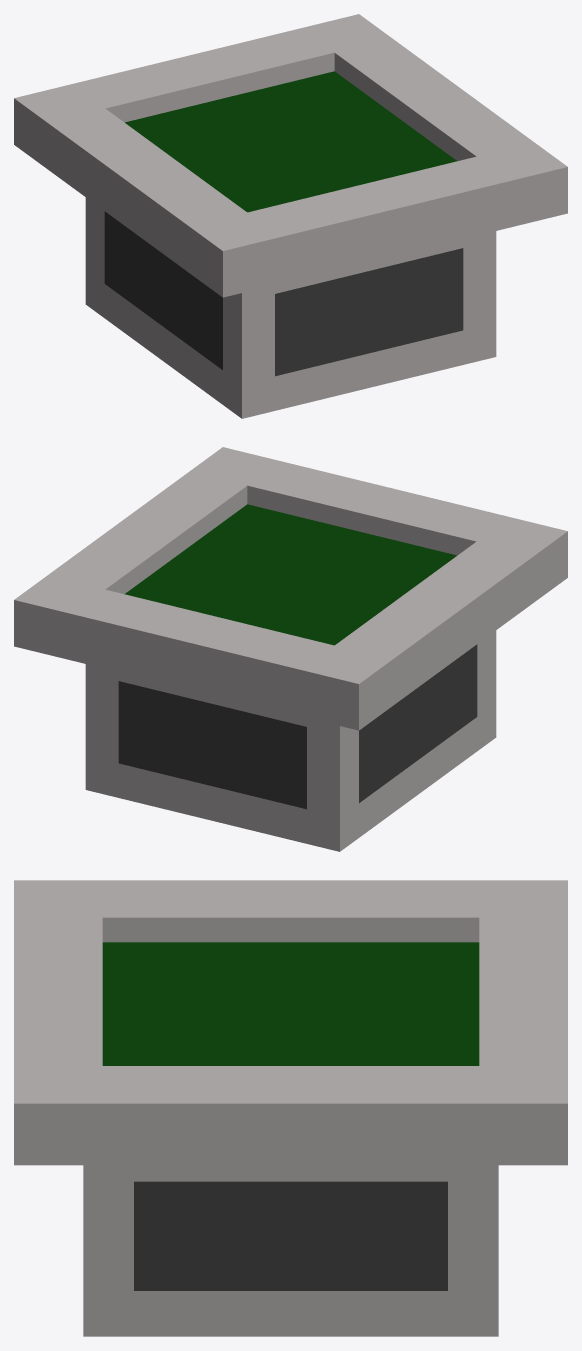
File: plant pot1.FBX
3 views of the same model, one above another, from view 1: azimuth 30°, elevation 25°; view 2: azimuth 150°, elevation 25°; view 3: azimuth 270°, elevation 25° (orthographic). The views are drawn at different scales.
Parts seen in each view (by area): view 1: plant pot1; view 2: plant pot1; view 3: plant pot1.
Boxes of the visible parts, <box> form: plant pot1: <box>14,14,567,418</box>; plant pot1: <box>14,447,567,851</box>; plant pot1: <box>14,880,567,1336</box>.
Bounding box in the file's own units: 3 × 1.65 × 3.15.
